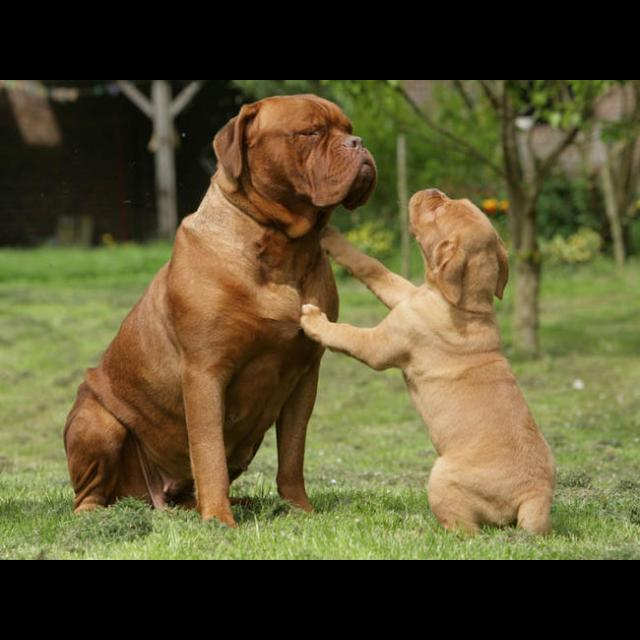dogue_de_bordeaux: (63, 93, 381, 530), (300, 188, 558, 541)
